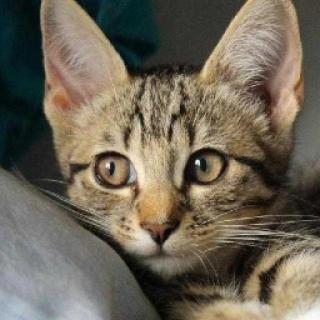cat: (33, 0, 306, 285)
nose: (135, 199, 185, 250)
